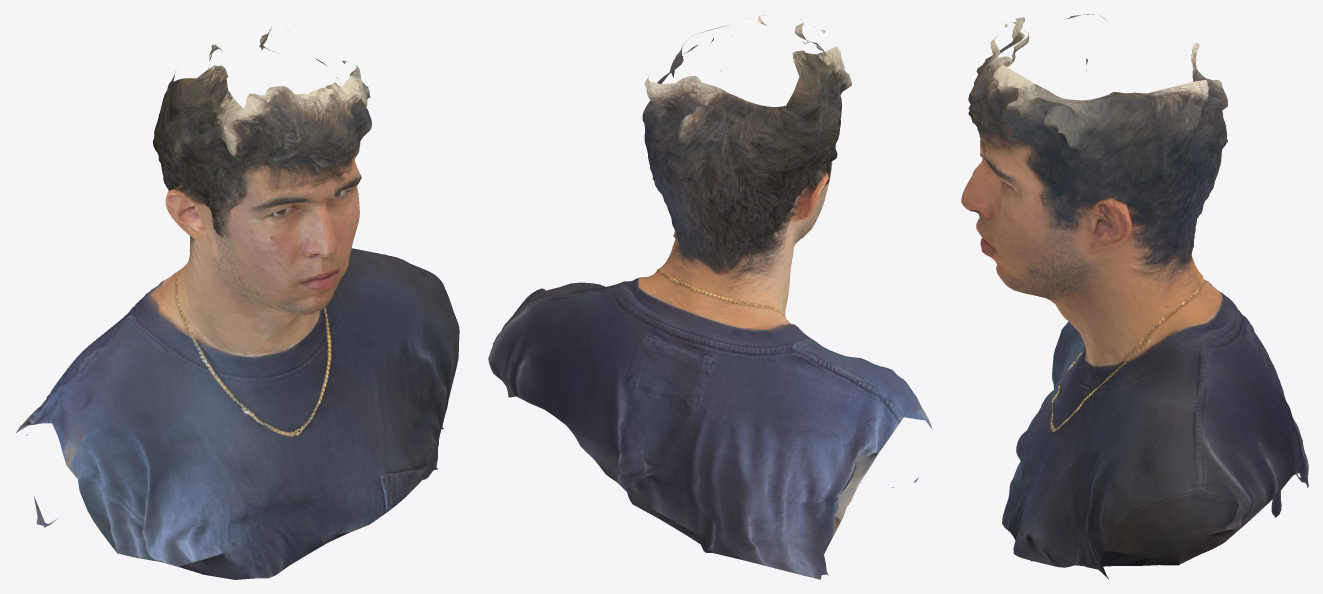
The model's file is character.glb.
3 renders of one model, left to right at view 1: azimuth 30°, elevation 25°; view 2: azimuth 150°, elevation 25°; view 3: azimuth 270°, elevation 25°, orthographic. The views are drawn at different scales.
Size of the model in its own units: 0.4673 by 0.5239 by 0.3205.
1 material, 1 textured.
